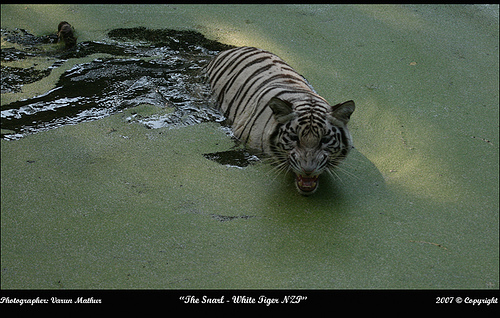Tigre: (214, 47, 366, 193)
